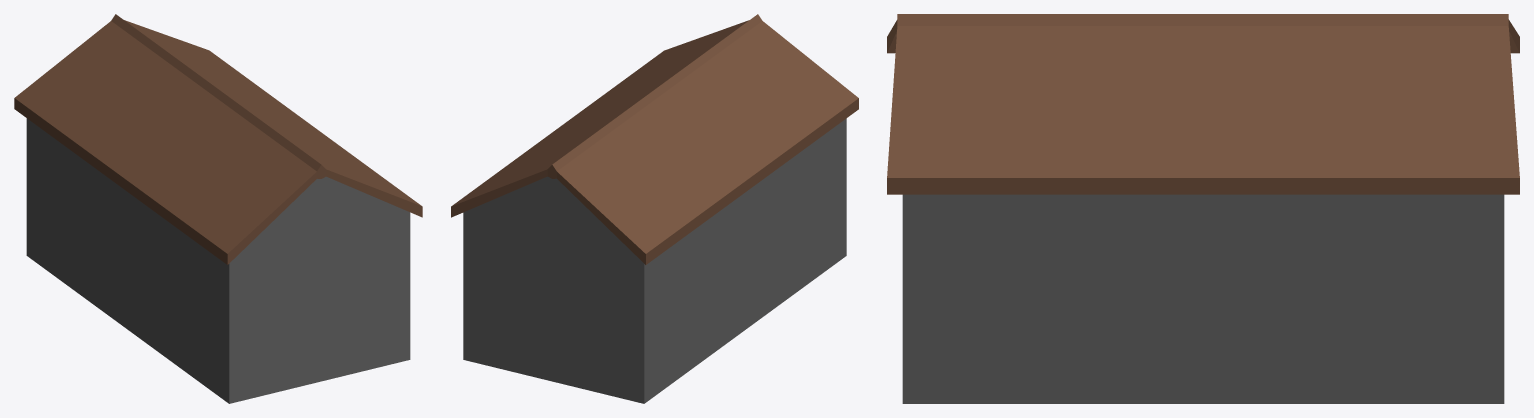
The model's file is Room06.fbx.
3 views of the same model, side by side, from view 1: azimuth 30°, elevation 25°; view 2: azimuth 150°, elevation 25°; view 3: azimuth 270°, elevation 25° (orthographic). The views are drawn at different scales.
Visible parts, largest first — view 1: Room06; view 2: Room06; view 3: Room06.
Part boxes in pixels (<box>): Room06: <box>14,14,422,403</box>; Room06: <box>451,14,858,403</box>; Room06: <box>887,14,1519,403</box>.
Size of the model in its own units: 330 by 354 by 626.
